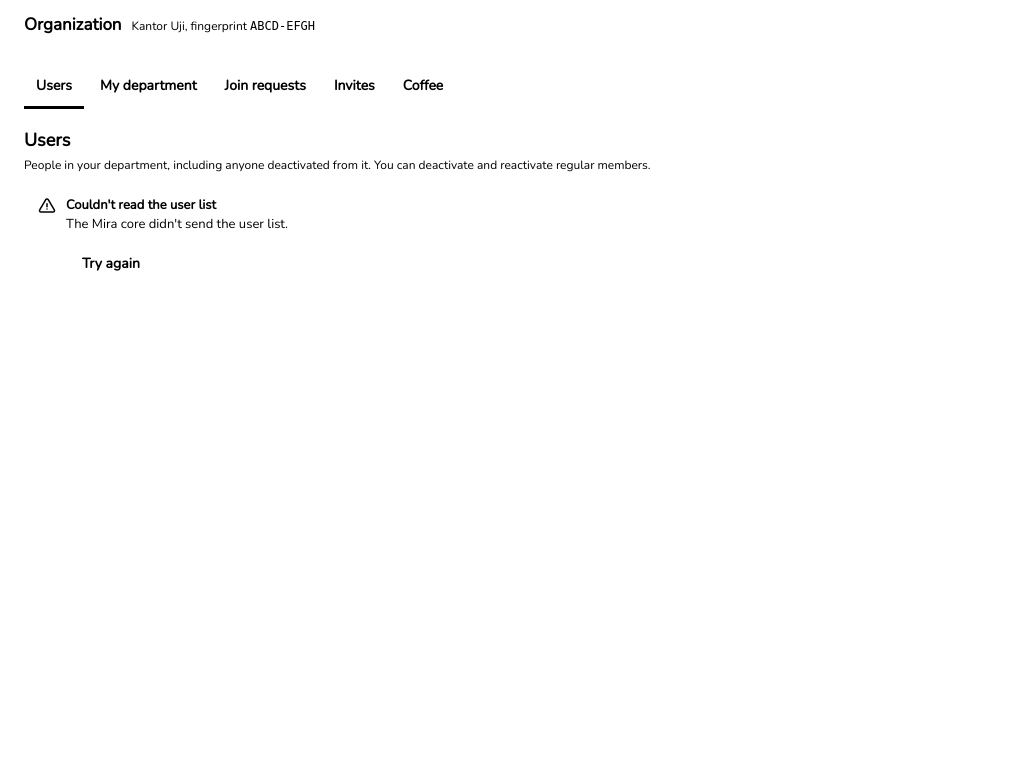
it: Departemen saya dalam bahasa Inggris › aksi pengelola dan dialog dalam bahasa Inggris; pesan admin terakhir diterjemahkan
Step 1. Click the button "My department" → (148,86), box [88,64,209,108]
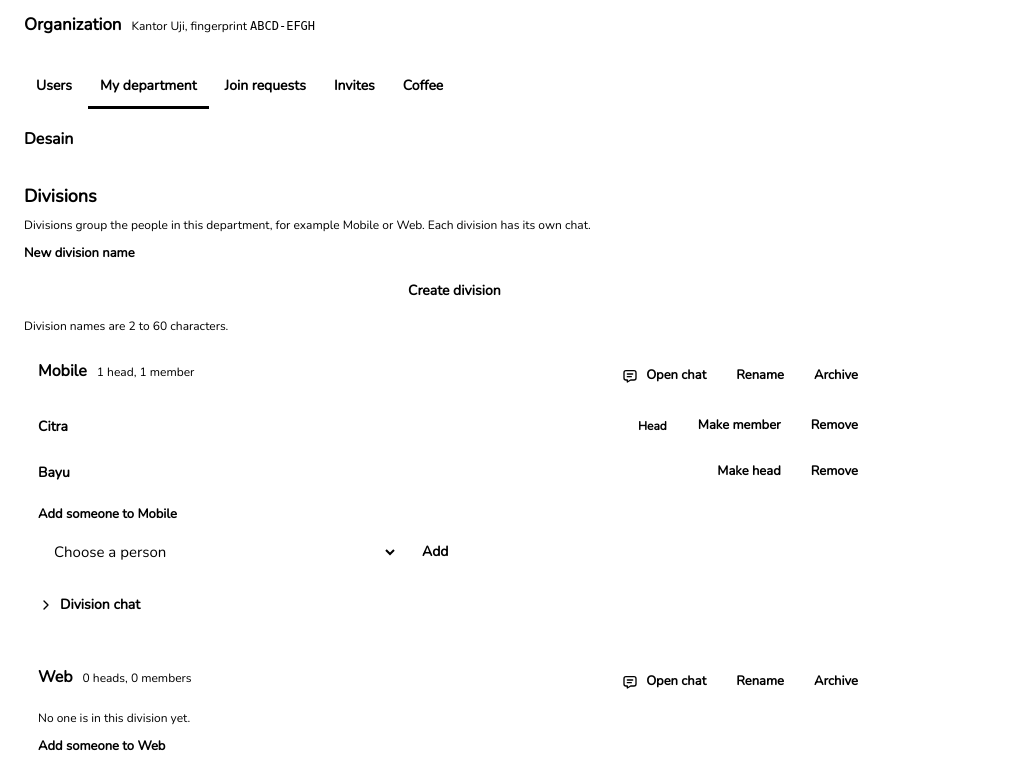
Expected: the button with aria-label "Make head, Bayu, Mobile" is shown, [705,455,793,489]
Expected: the button with aria-label "Make member, Citra, Mobile" reads "Make member", [686,409,793,443]
Step 2. Click the button with aria-label "Archive division Web" → (836,682), box [802,664,870,698]
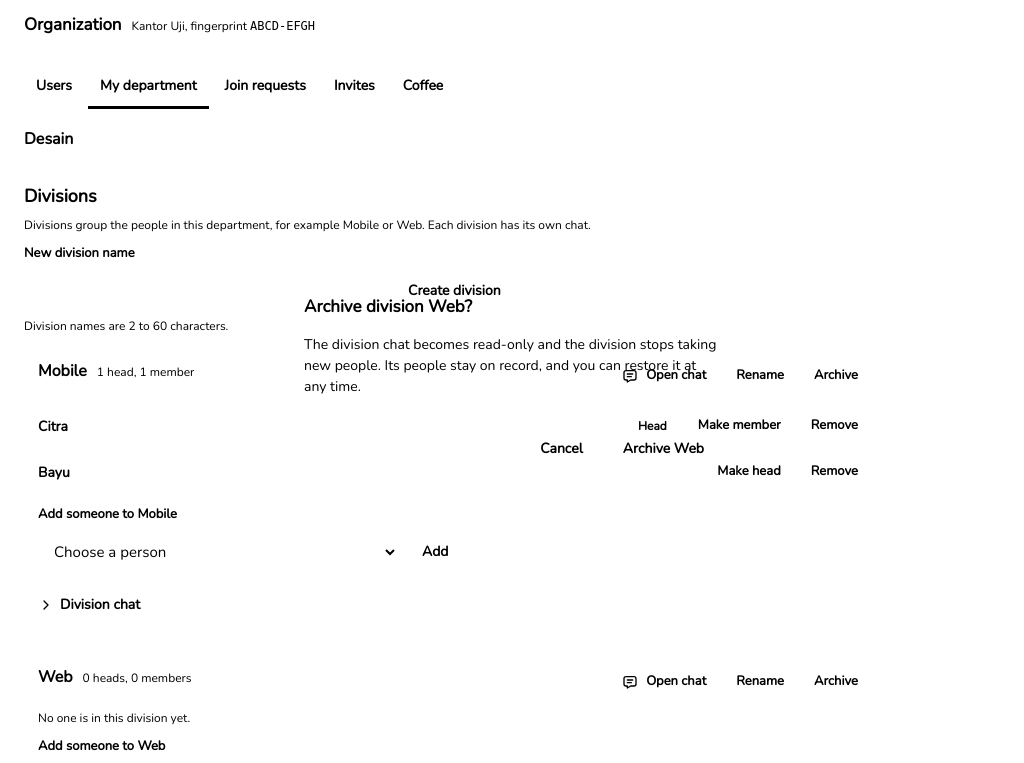
Step 3. Click the button "Cancel" → (562,448), box [524,428,599,468]
(page scrolled)
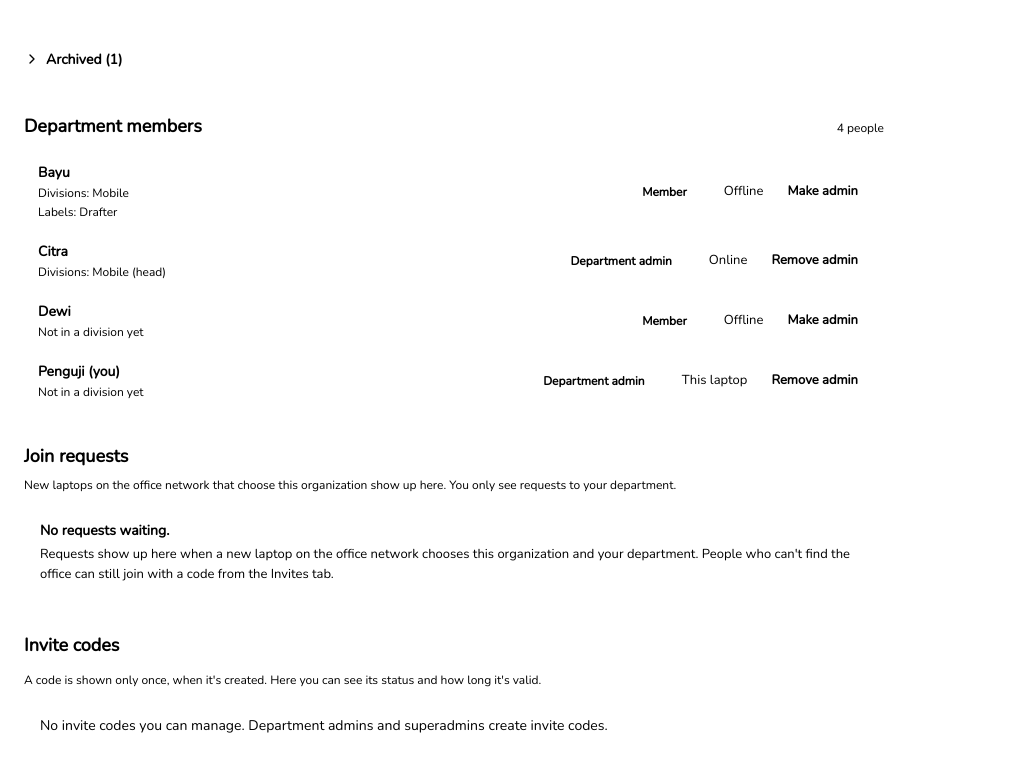
Step 4. Click the button with aria-label "Remove admin, Penguji" → (815,381), box [759,364,870,398]
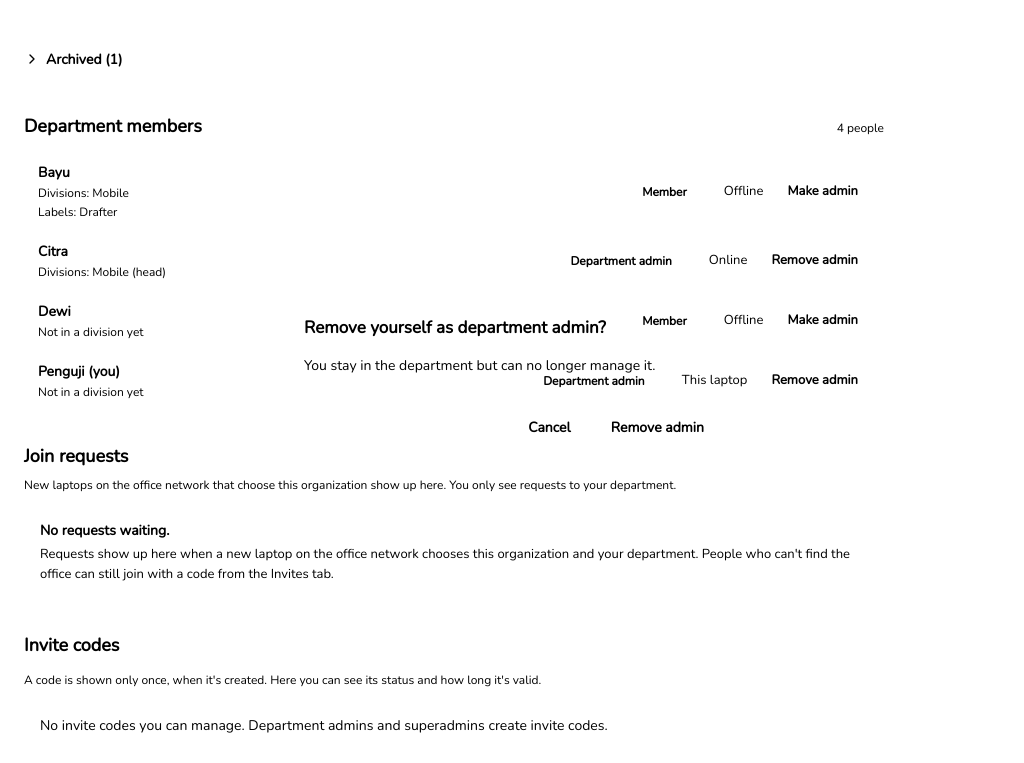
Step 5. Click the button "Remove admin" → (657,427), box [595,407,720,447]
(page scrolled)
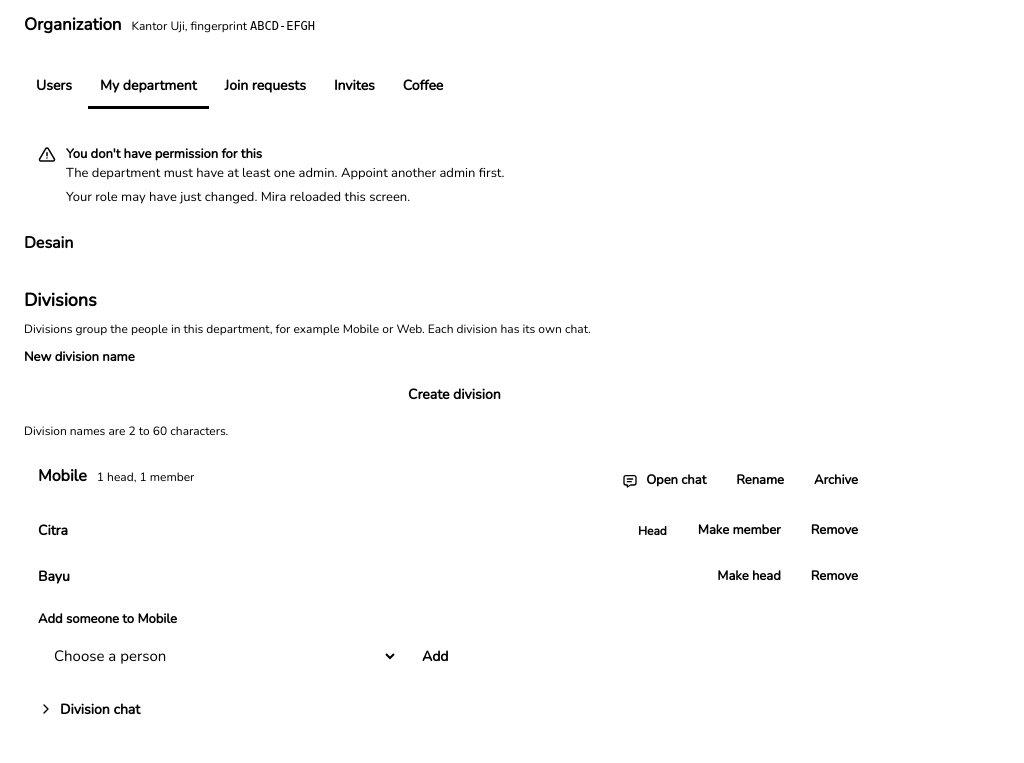
Expected: the text "The department must have at least one admin. Appoint another admin first." is shown, [66,164,505,184]
